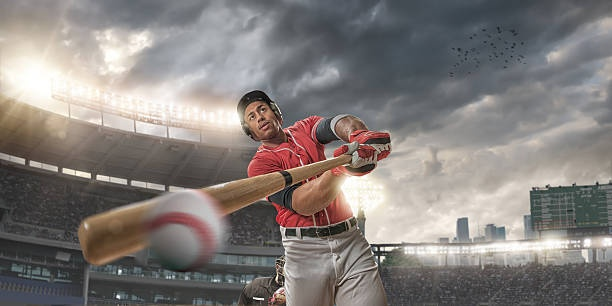bita: (79, 149, 366, 262)
